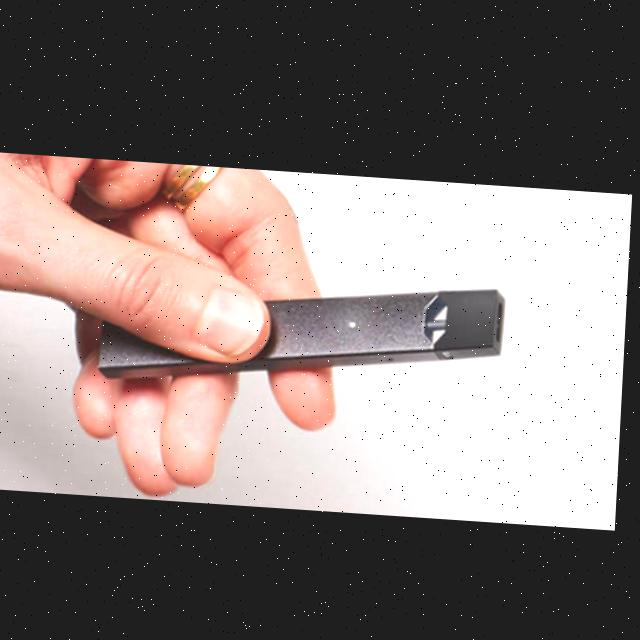vape: (100, 261, 510, 398)
